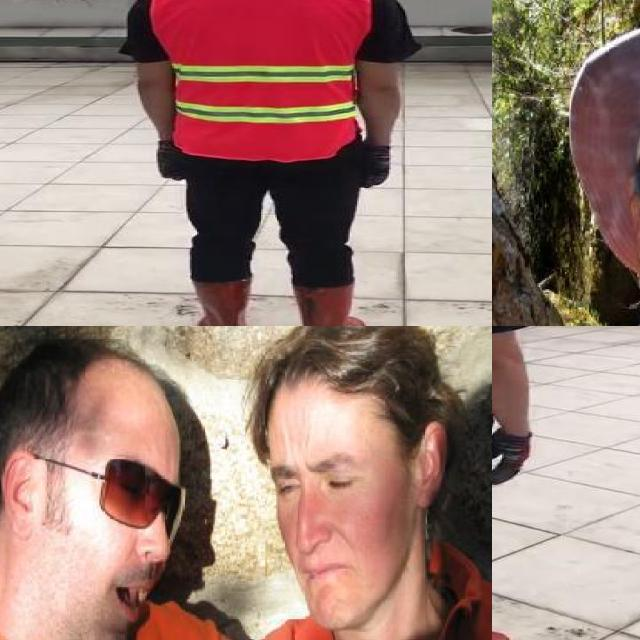boots: (291, 284, 367, 326), (190, 278, 256, 326)
face_nomask: (82, 458, 185, 626), (265, 459, 383, 603)
glasses: (9, 443, 180, 527)
hand_glove: (492, 430, 530, 486), (360, 147, 392, 188), (156, 142, 186, 181)
head_nohelmet: (246, 326, 440, 435), (12, 326, 172, 414)
person: (118, 0, 415, 326), (233, 326, 492, 640), (0, 332, 213, 640), (492, 326, 547, 640)
vest: (147, 0, 365, 157)
